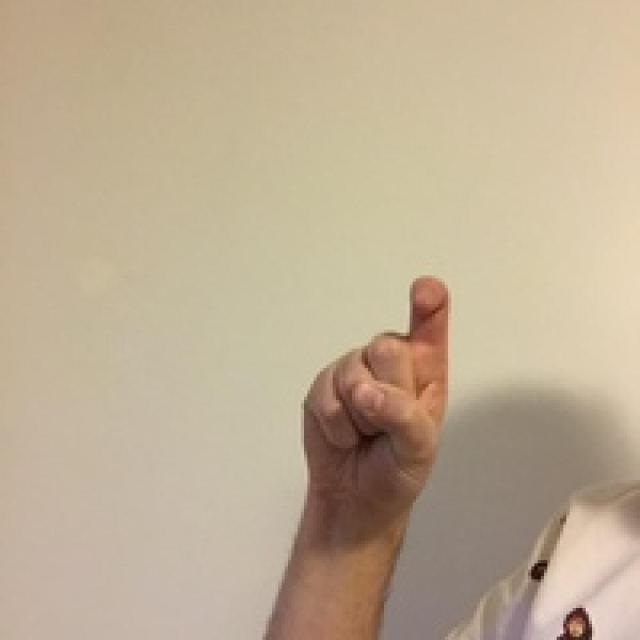X: (217, 252, 525, 538)
